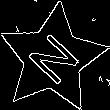N_SE: (21, 26, 85, 91)
